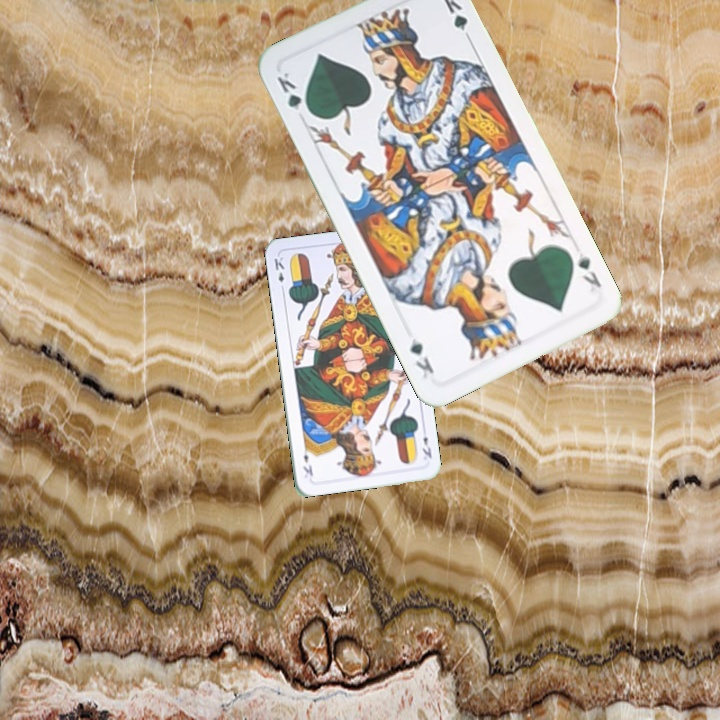EK: (270, 253, 287, 294), (418, 432, 434, 461)
GK: (272, 68, 314, 118), (573, 248, 604, 294)
